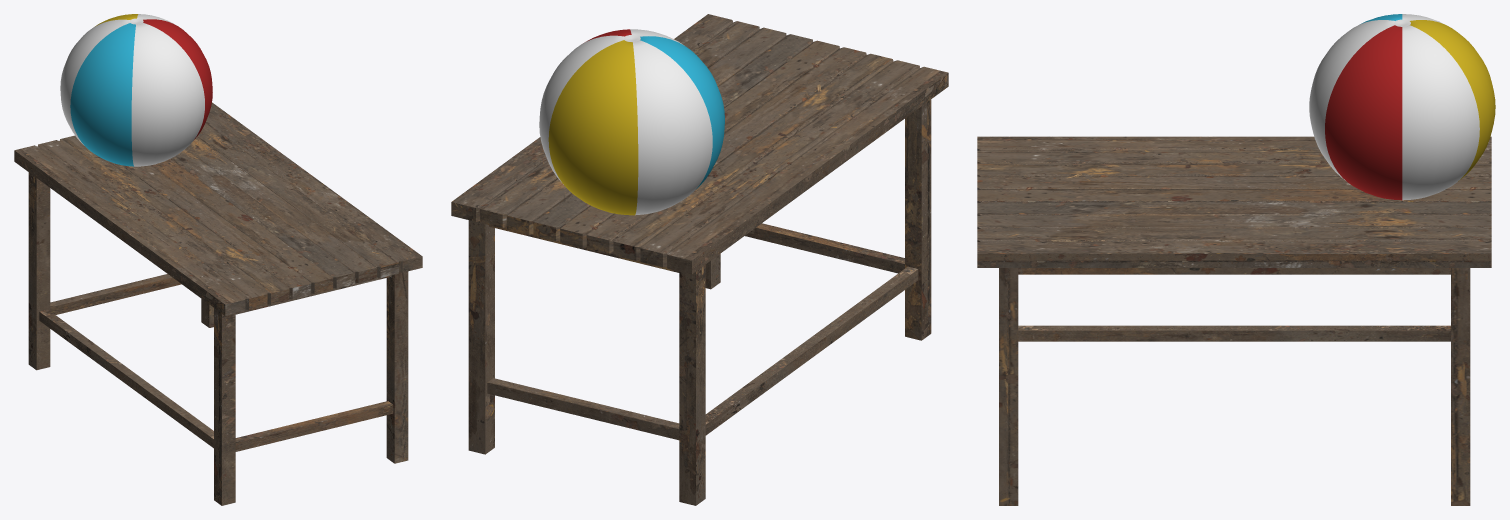
File: newTable_B.glb
3 views of the same model, side by side, from view 1: azimuth 30°, elevation 25°; view 2: azimuth 150°, elevation 25°; view 3: azimuth 270°, elevation 25° (orthographic). The views are drawn at different scales.
Parts seen in each view (by area): view 1: Cube_0, Sphere; view 2: Cube_0, Sphere; view 3: Cube_0, Sphere.
Boxes of the visible parts, x1,y1,x2,y2 form: Cube_0: (14,102,422,505); Sphere: (60,14,212,166); Cube_0: (451,14,948,505); Sphere: (539,29,724,215); Cube_0: (977,136,1491,505); Sphere: (1309,14,1495,200).
Bounding box in the file's own units: 1.01 × 1.69 × 1.89.
5 materials, 1 textured.
